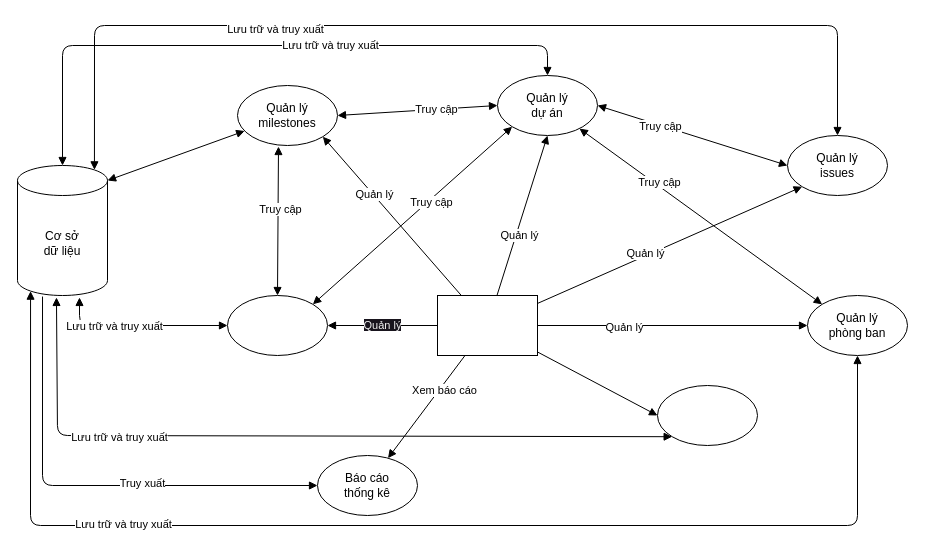
The diagram is 925 pixels wide and 552 high, and some of its shapes have lost their labels. Each missing label, with the centre of its shape:
Hệ thống quản lý dự án: the point at 487,325
Quản lý người dùng: the point at 707,415
Quản lý releases: the point at 277,325
